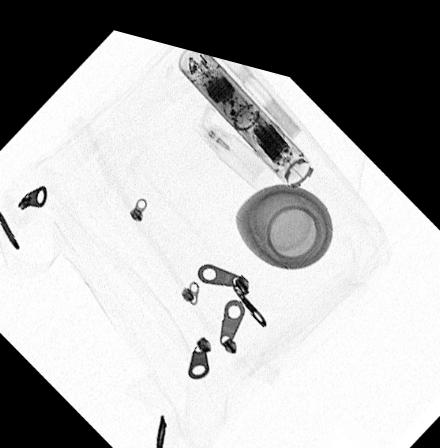Baton: (175, 39, 313, 173)
